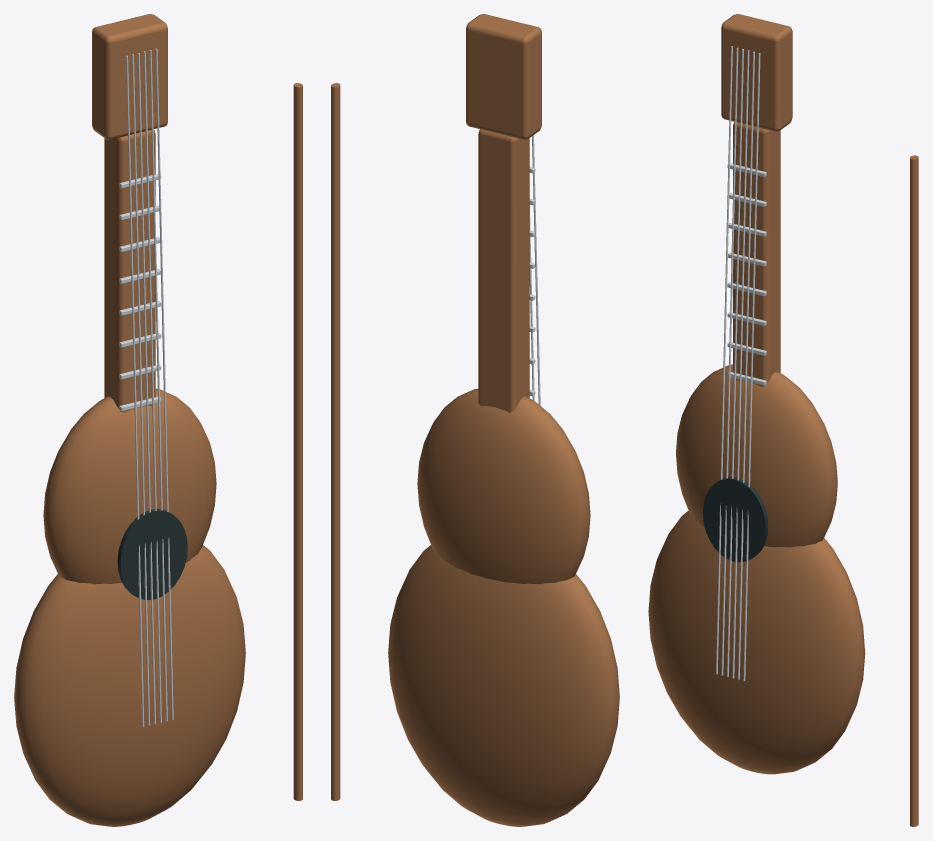
File: wp-violon.glb
3 views of the same model, side by side, from view 1: azimuth 30°, elevation 25°; view 2: azimuth 150°, elevation 25°; view 3: azimuth 330°, elevation 25° (orthographic). The views are drawn at different scales.
Parts seen in each view (by area): view 1: wp-violon; view 2: wp-violon; view 3: wp-violon.
Boxes of the visible parts, x1=… form: wp-violon: x1=14, y1=14, x2=302, y2=826; wp-violon: x1=331, y1=14, x2=619, y2=826; wp-violon: x1=648, y1=14, x2=918, y2=826.
Bounding box in the file's own units: 0.22 × 0.6 × 0.07.
